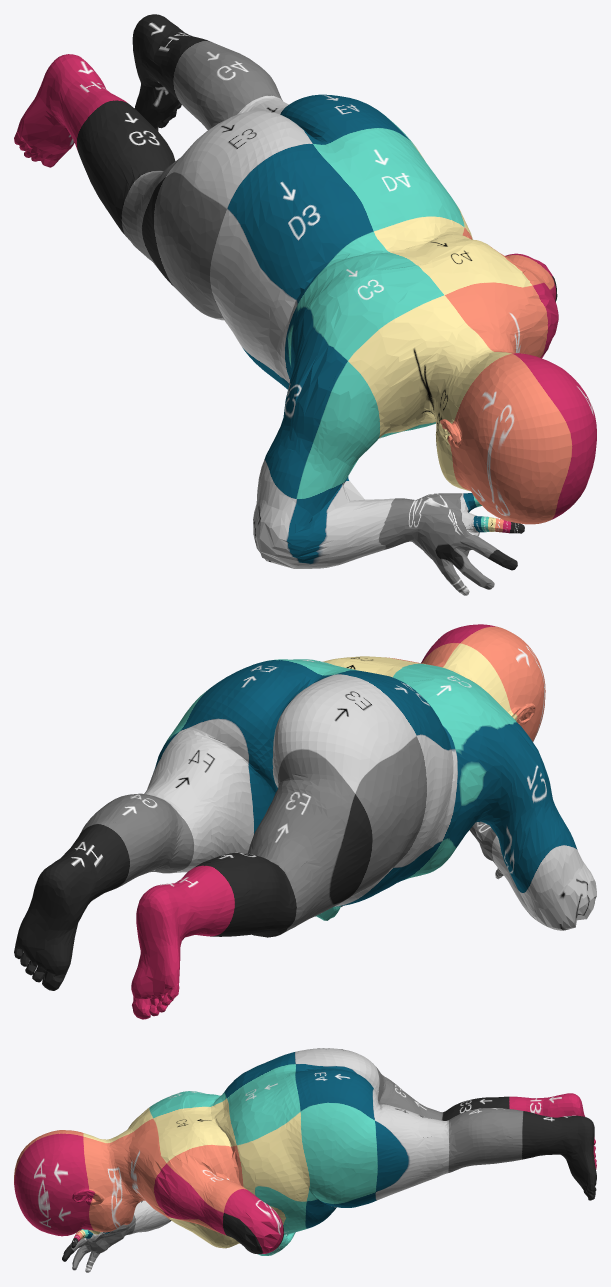
The model's file is kid00-kid18.obj.
3 renders of one model, top to bottom at view 1: azimuth 30°, elevation 25°; view 2: azimuth 150°, elevation 25°; view 3: azimuth 270°, elevation 25°, orthographic. The views are drawn at different scales.
Visible parts, largest first — view 1: kid00-kid18_export; view 2: kid00-kid18_export; view 3: kid00-kid18_export.
Part boxes in pixels (x1=…): kid00-kid18_export: x1=14, y1=14, x2=596, y2=595; kid00-kid18_export: x1=14, y1=624, x2=596, y2=1019; kid00-kid18_export: x1=14, y1=1048, x2=596, y2=1272.
Bounding box in the file's own units: 0.4921 × 0.4297 × 1.04.
1 material, 1 textured.
